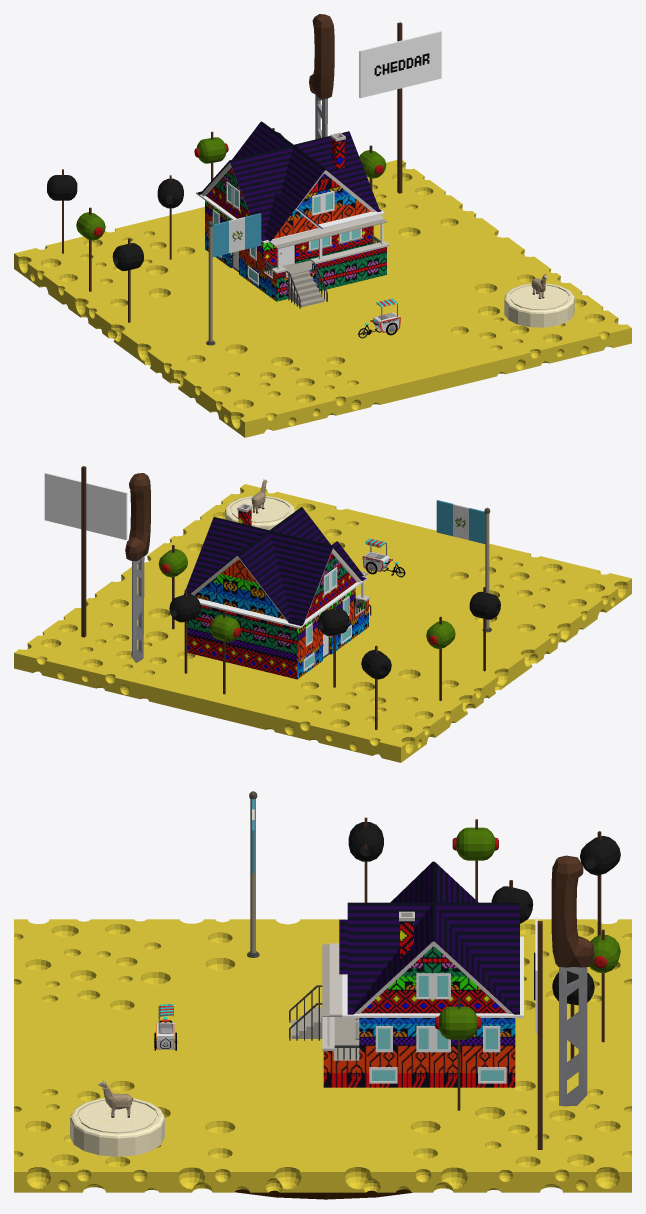
3 renders of one model, top to bottom at view 1: azimuth 30°, elevation 25°; view 2: azimuth 150°, elevation 25°; view 3: azimuth 270°, elevation 25°, orthographic. The views are drawn at different scales.
Parts seen in each view (by area): view 1: Cube.022, Cube.966, Cube.023, Cylinder.016, Cube.024, OBJRANDOM_GUATEMALAN_FLAG, Sphere.017, Sphere.016, Sphere.020, Sphere.018, Sphere.022, VEHICLES_SNOWBAL_BIKE (+1 smaller); view 2: Cube.022, Cube.966, Cube.023, Cube.024, OBJRANDOM_GUATEMALAN_FLAG, Cylinder.016, Sphere.021, Sphere.020, Sphere.017, Sphere.016, Sphere.022, Sphere.018 (+2 smaller); view 3: Cube.022, Cube.966, Cube.024, Cylinder.016, Cube.023, Sphere.019, Sphere.016, Sphere.018, Sphere.017, Sphere.022, OBJRANDOM_GUATEMALAN_FLAG, Cylinder (+4 smaller).
Boxes of the visible parts, x1,y1,x2,y2 form: Cube.022: [14, 160, 631, 437]; Cube.966: [196, 121, 389, 308]; Cube.023: [359, 22, 441, 193]; Cylinder.016: [504, 283, 574, 327]; Cube.024: [309, 14, 334, 139]; OBJRANDOM_GUATEMALAN_FLAG: [206, 213, 261, 345]; Sphere.017: [112, 238, 143, 322]; Sphere.016: [47, 169, 77, 253]; Sphere.020: [157, 175, 183, 259]; Sphere.018: [76, 207, 105, 291]; Sphere.022: [194, 131, 228, 180]; VEHICLES_SNOWBAL_BIKE: [358, 298, 400, 338]; Cube.022: [14, 484, 631, 762]; Cube.966: [182, 503, 371, 679]; Cube.023: [44, 466, 127, 637]; Cube.024: [125, 473, 150, 662]; OBJRANDOM_GUATEMALAN_FLAG: [436, 500, 491, 632]; Cylinder.016: [225, 496, 294, 530]; Sphere.021: [169, 589, 200, 673]; Sphere.020: [318, 603, 349, 687]; Sphere.017: [469, 587, 500, 671]; Sphere.016: [361, 645, 391, 729]; Sphere.022: [209, 610, 240, 694]; Sphere.018: [426, 616, 455, 700]; Cube.022: [14, 919, 631, 1192]; Cube.966: [289, 861, 523, 1087]; Cube.024: [551, 855, 594, 1106]; Cylinder.016: [70, 1098, 164, 1156]; Cube.023: [534, 917, 542, 1149]; Sphere.019: [435, 998, 481, 1110]; Sphere.016: [580, 831, 620, 935]; Sphere.018: [452, 819, 498, 901]; Sphere.017: [348, 817, 383, 902]; Sphere.022: [590, 929, 620, 1042]; OBJRANDOM_GUATEMALAN_FLAG: [247, 791, 259, 957]; Cylinder: [235, 1189, 412, 1199].
Bounding box in the file's own units: 3917 × 2073 × 4000.
Materials: 45 (7 with a texture image).
